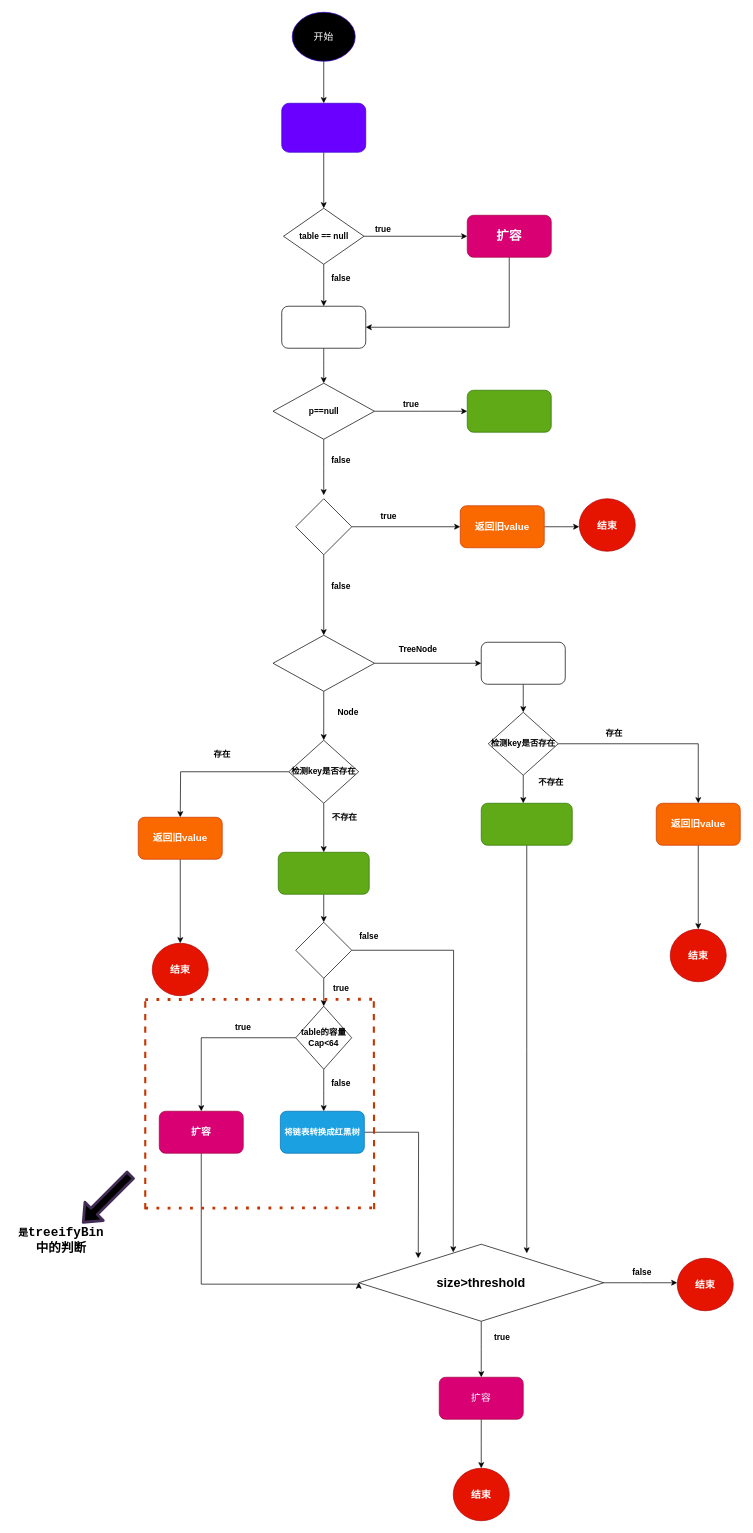
This 753x1533 diagram has some shape labels left out. Here are the shapes that lost their labels. From the top down, the centre of each, then its label:
point 323,127: 计算key的hash值
point 323,327: i =(n-1) & hash p=table[i]
point 509,411: table[i]=newNode
point 323,526: key== p.key
point 323,663: p ? TreeNode
point 523,663: 调用putTreeVal添加数据
point 526,824: 将数据添加到红黑树中
point 323,873: 找到Node链表的表尾，将数据添加到表尾中
point 323,950: 链表长度len>=8
